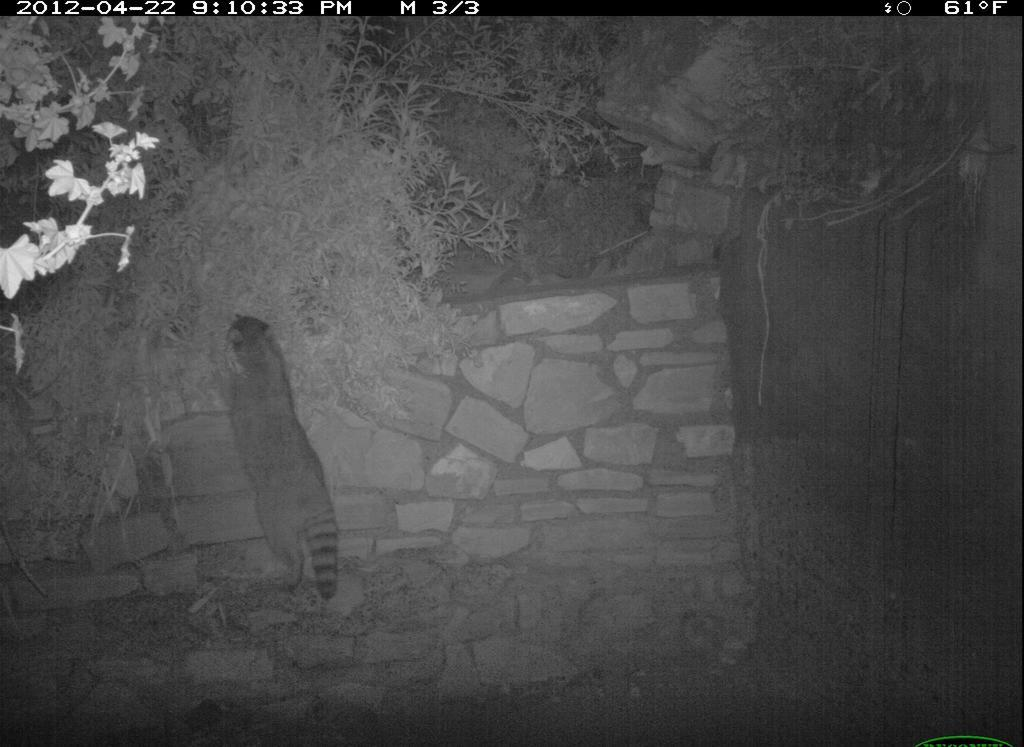raccoon: (198, 304, 368, 621)
